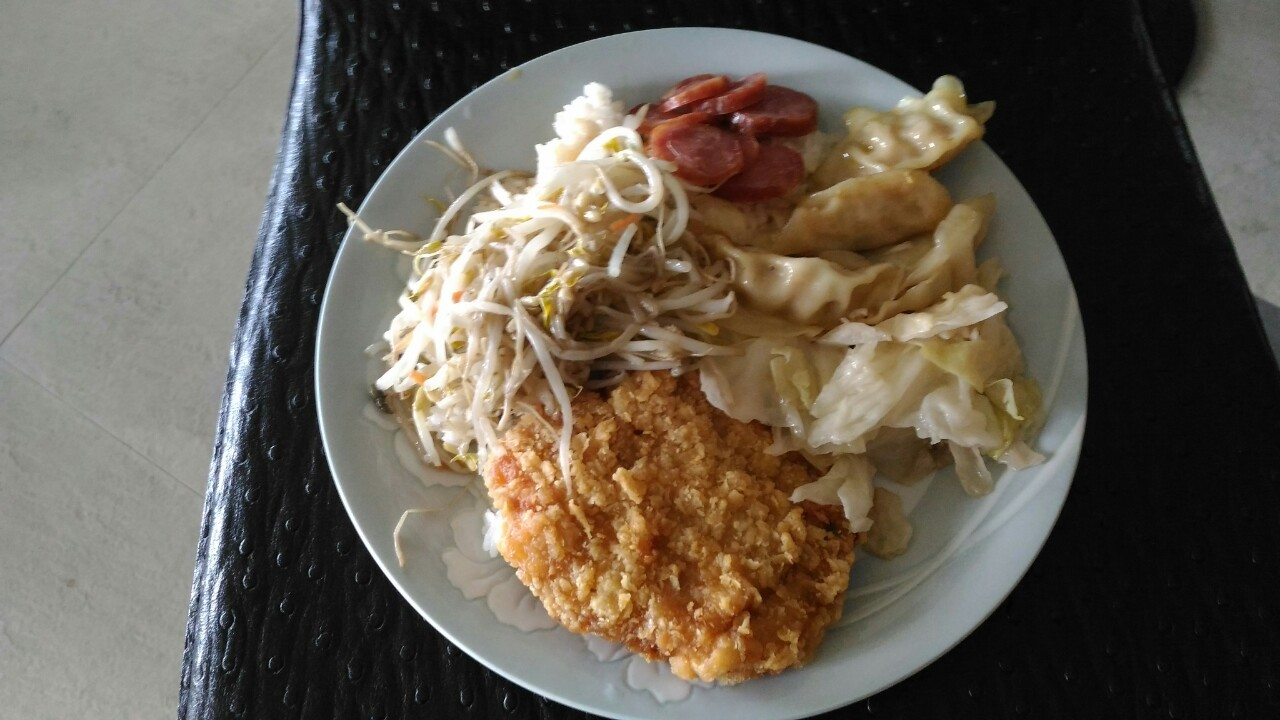chinese_cabbage: (713, 292, 1057, 490)
chinese_sausage: (650, 69, 819, 207)
fried_chicken: (484, 377, 854, 684)
fried_dumplings: (726, 83, 1021, 317)
mung_bean_sprouts: (374, 132, 731, 466)
